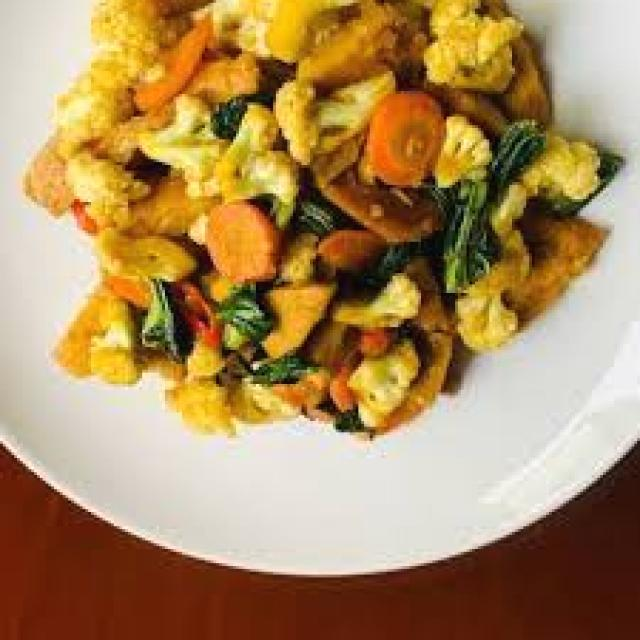capcay: (23, 0, 620, 438)
